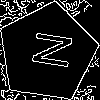N: (22, 28, 73, 71)
